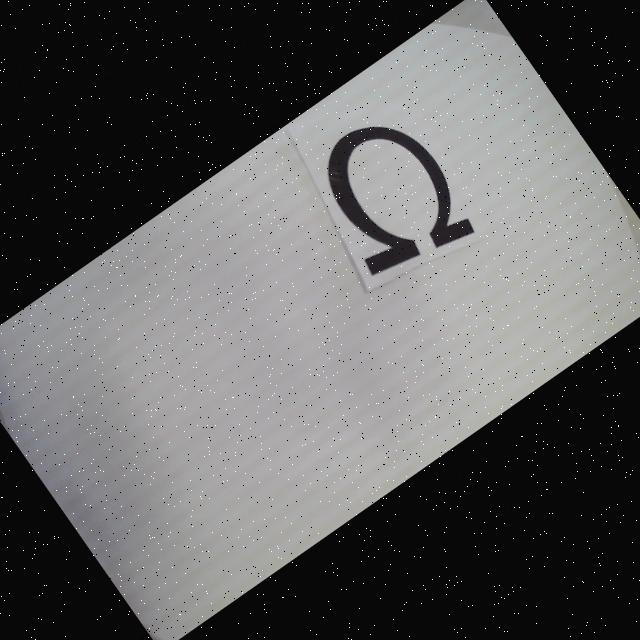OMEGA: (298, 100, 482, 293)
